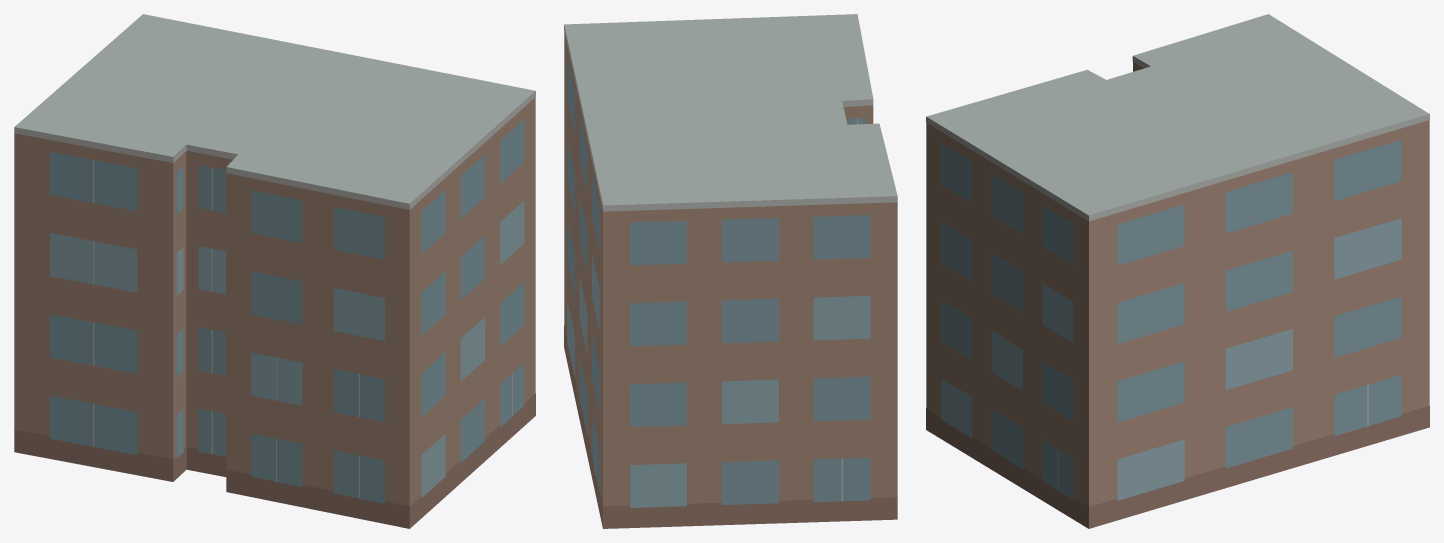
The model's file is survey-upis-32807721.glb.
3 renders of one model, left to right at view 1: azimuth 30°, elevation 25°; view 2: azimuth 150°, elevation 25°; view 3: azimuth 270°, elevation 25°, orthographic. The views are drawn at different scales.
Visible parts, largest first — view 1: survey-upis-32807721.tmp; view 2: survey-upis-32807721.tmp; view 3: survey-upis-32807721.tmp.
Boxes of the visible parts, box(x1,y1,x2,y2) form: survey-upis-32807721.tmp: box(14, 14, 535, 528); survey-upis-32807721.tmp: box(564, 14, 897, 528); survey-upis-32807721.tmp: box(926, 14, 1429, 528).
Bounding box in the file's own units: 17.8 × 12.9 × 18.8.
